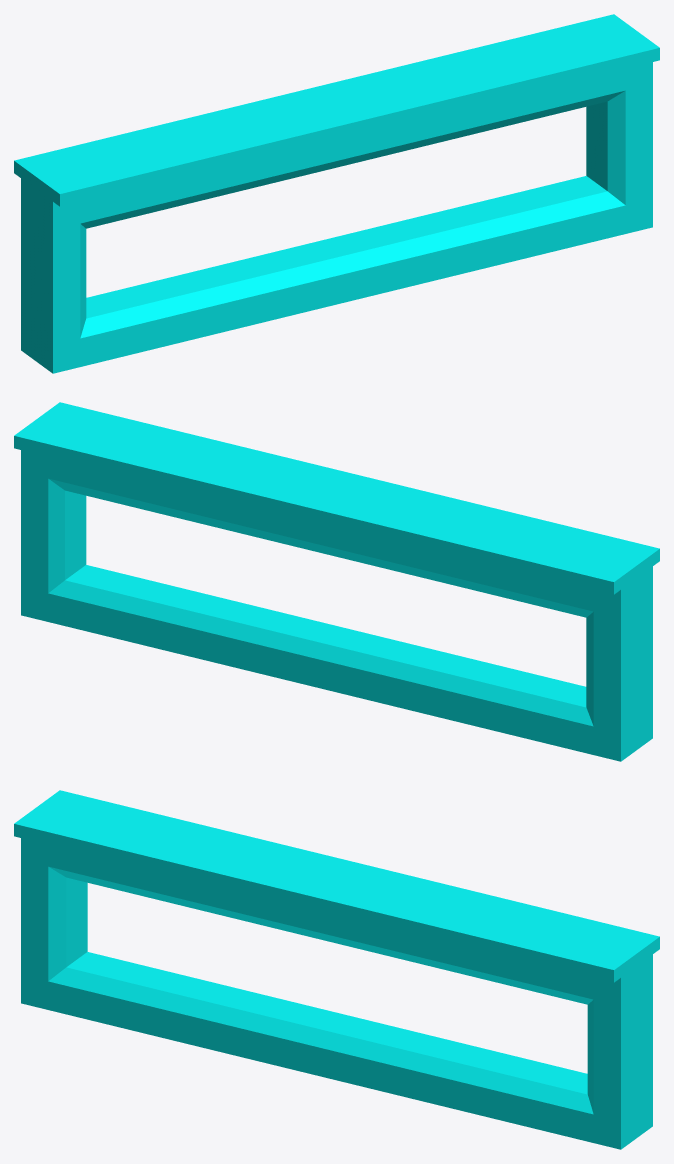
File: InsideSpiralStaircaseTop.FBX
3 views of the same model, one above another, from view 1: azimuth 30°, elevation 25°; view 2: azimuth 150°, elevation 25°; view 3: azimuth 330°, elevation 25° (orthographic).
Visible parts, largest first — view 1: InsideTopFence; view 2: InsideTopFence; view 3: InsideTopFence.
Boxes of the visible parts, x1,y1,x2,y2 form: InsideTopFence: [14, 14, 659, 373]; InsideTopFence: [14, 402, 659, 761]; InsideTopFence: [14, 790, 659, 1149].
Size of the model in its own units: 542 by 71.85 by 159.
